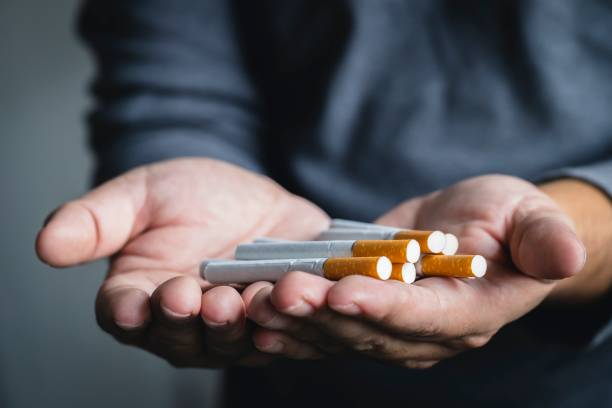cigarette: (198, 255, 394, 286), (232, 238, 422, 264), (316, 228, 448, 254), (417, 252, 489, 279), (391, 261, 418, 285), (441, 233, 461, 257)
